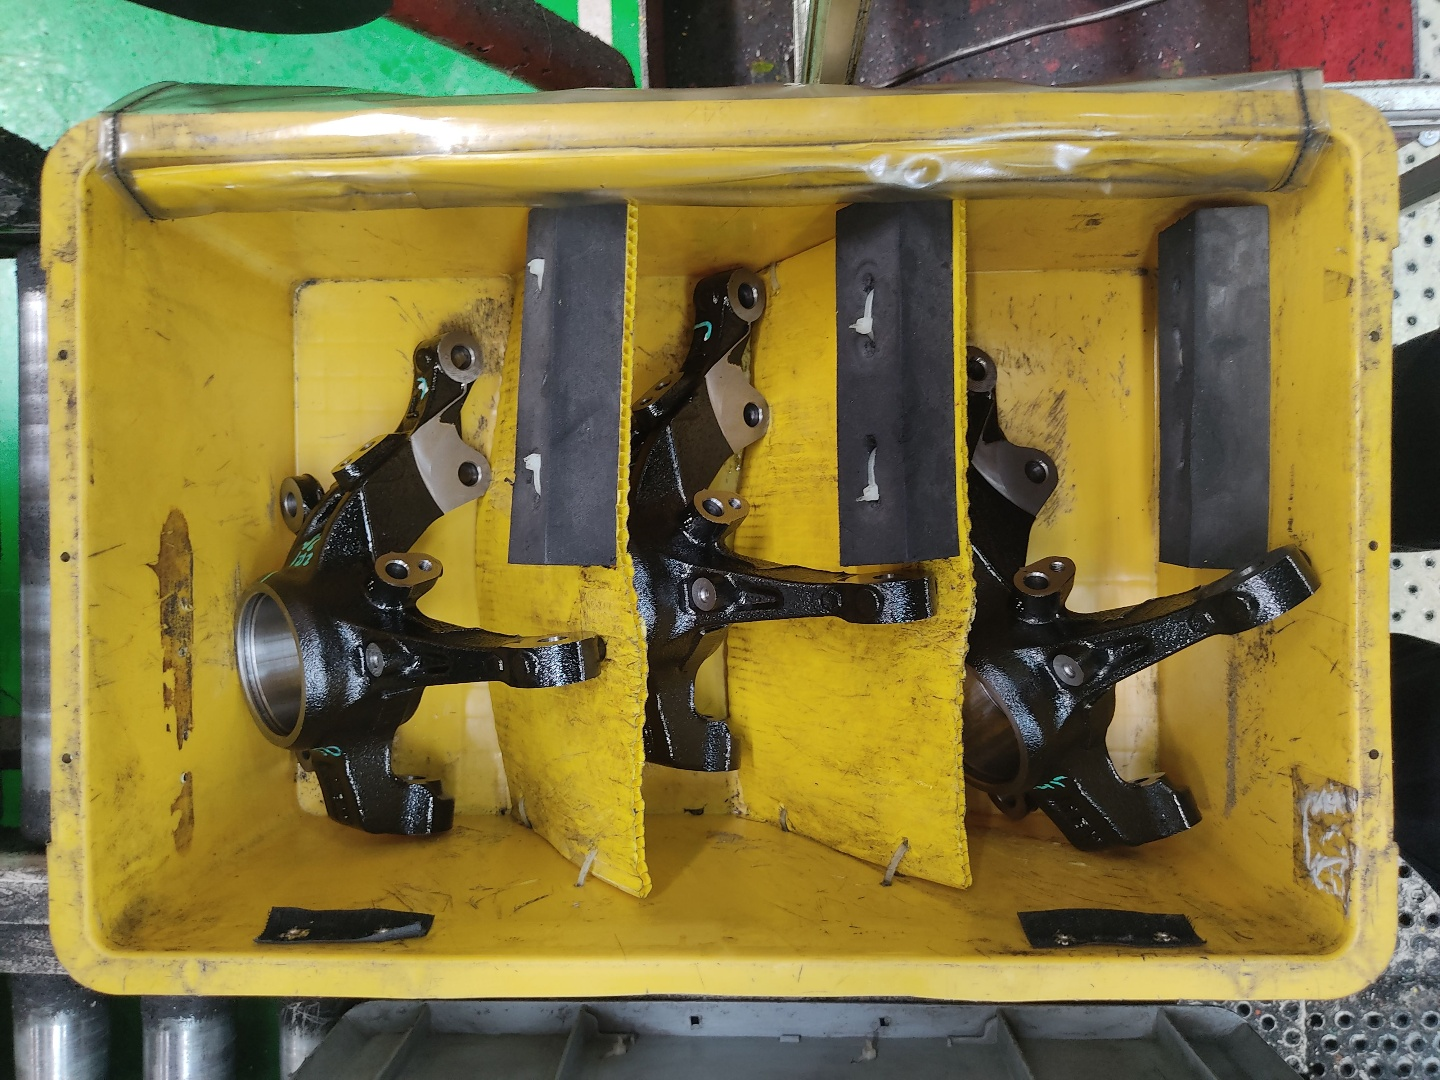abs-lh: (225, 313, 617, 853), (952, 320, 1331, 864), (628, 256, 950, 788)
